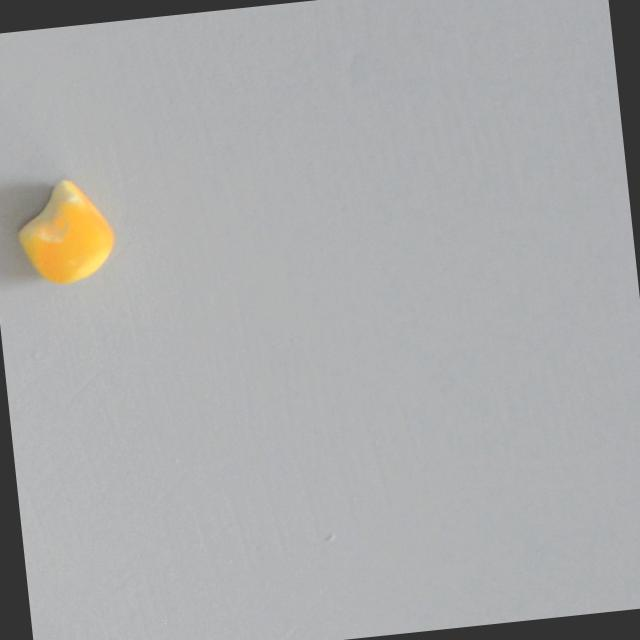no_canjicado: (7, 170, 121, 290)
